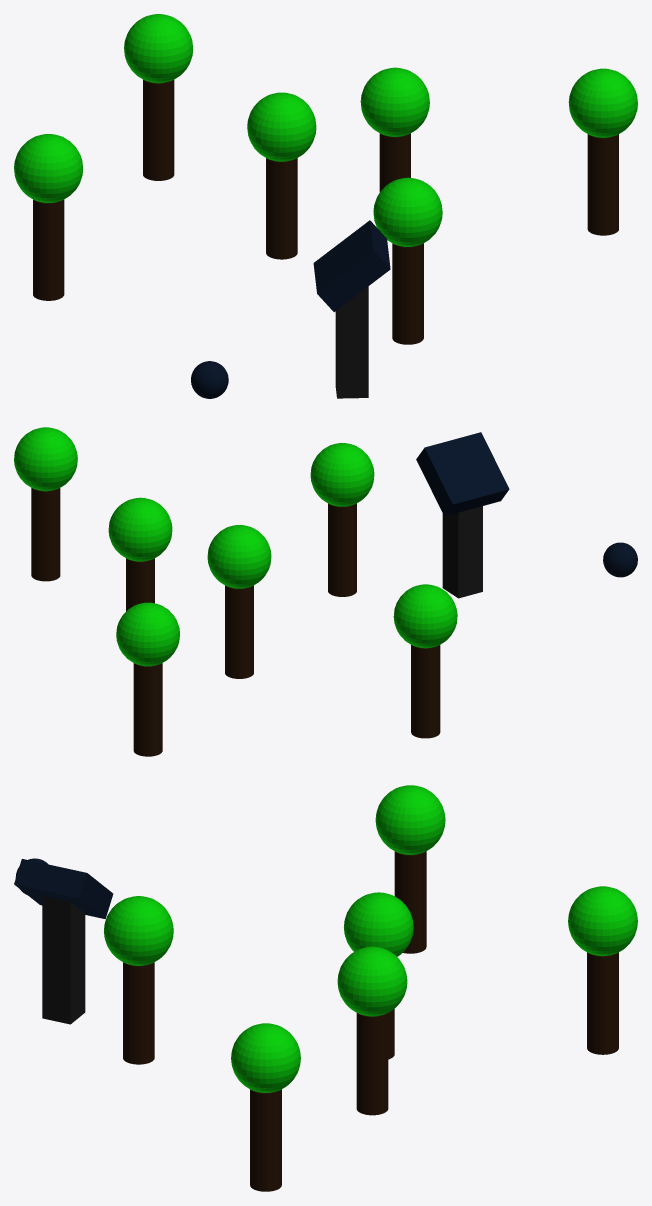
Rendered from exercise20063.obj.
The picture shows the model from 3 angles, top to bottom: view 1: azimuth 30°, elevation 25°; view 2: azimuth 150°, elevation 25°; view 3: azimuth 270°, elevation 25°; orthographic projection. The views are drawn at different scales.
Visible parts, largest first — view 1: Cube.001, Sphere.002, Sphere.005, Sphere, Sphere.003, Sphere.006, Sphere.004, Cube, Cylinder.002, Cylinder.003, Cylinder.004, Cylinder.006 (+4 smaller); view 2: Cube.001, Cube, Sphere, Sphere.005, Sphere.006, Sphere.003, Sphere.004, Sphere.002, Cylinder.003, Cylinder.005, Cylinder.006, Cylinder.002 (+4 smaller); view 3: Cube, Sphere, Sphere.006, Sphere.004, Sphere.005, Sphere.003, Sphere.002, Cube.001, Cylinder.004, Cylinder.003, Cylinder.005, Cylinder (+2 smaller).
Part boxes in pixels (<box>): Cube.001: <box>313,220,390,312</box>; Sphere.002: <box>247,92,316,161</box>; Sphere.005: <box>124,14,193,83</box>; Sphere: <box>360,67,429,136</box>; Sphere.003: <box>568,68,637,137</box>; Sphere.006: <box>14,134,83,202</box>; Sphere.004: <box>373,177,442,246</box>; Cube: <box>335,286,368,398</box>; Cylinder.002: <box>266,158,297,259</box>; Cylinder.003: <box>587,134,618,235</box>; Cylinder.004: <box>392,243,423,344</box>; Cylinder.006: <box>33,199,64,300</box>; Cube.001: <box>416,432,509,516</box>; Cube: <box>442,506,482,598</box>; Sphere: <box>108,497,172,561</box>; Sphere.005: <box>116,602,179,666</box>; Sphere.006: <box>393,584,457,648</box>; Sphere.003: <box>14,427,77,491</box>; Sphere.004: <box>310,443,374,506</box>; Sphere.002: <box>207,525,271,588</box>; Cylinder.003: <box>31,488,60,581</box>; Cylinder.005: <box>133,663,162,756</box>; Cylinder.006: <box>411,645,440,738</box>; Cylinder.002: <box>225,585,253,678</box>; Cube: <box>42,896,85,1024</box>; Sphere: <box>337,946,407,1016</box>; Sphere.006: <box>375,785,445,854</box>; Sphere.004: <box>104,896,173,965</box>; Sphere.005: <box>568,886,637,956</box>; Sphere.003: <box>231,1023,300,1092</box>; Sphere.002: <box>344,892,413,956</box>; Cube.001: <box>14,859,113,919</box>; Cylinder.004: <box>123,962,154,1064</box>; Cylinder.003: <box>250,1089,281,1191</box>; Cylinder.005: <box>587,952,618,1054</box>; Cylinder: <box>356,1013,388,1114</box>.
Size of what is drawn, in the model's own units: 40.53 by 11.23 by 39.13.
